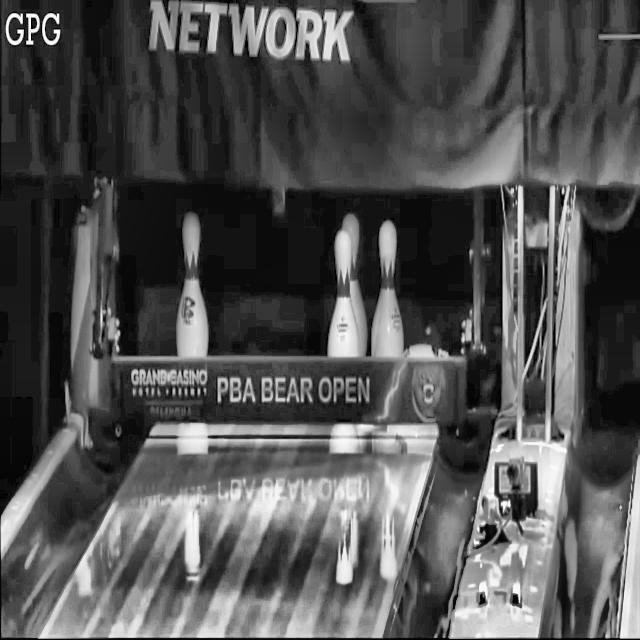bowling-pins: (177, 213, 208, 357), (372, 220, 404, 357), (328, 229, 359, 357), (343, 213, 368, 356)
sweep board: (113, 357, 466, 423)
